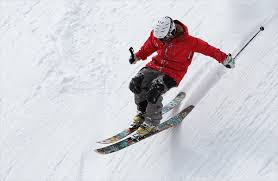skier: (93, 16, 266, 155)
